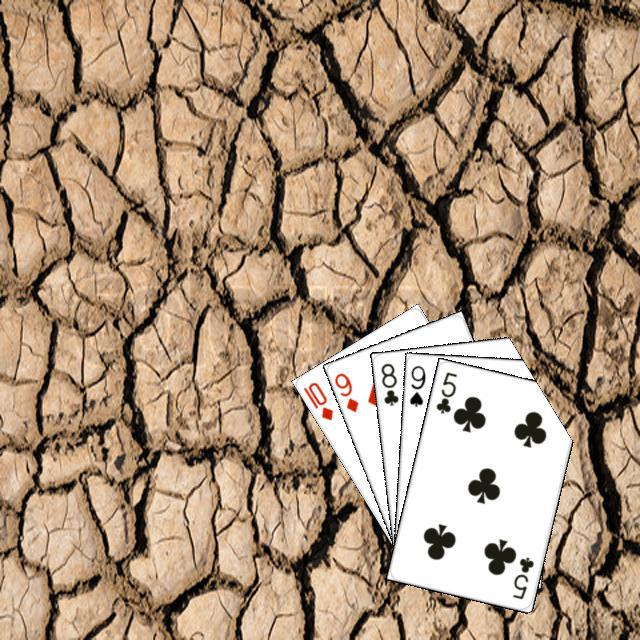10d: (298, 377, 335, 422)
5c: (508, 552, 536, 601), (431, 367, 459, 415)
8c: (376, 358, 400, 407)
9d: (330, 368, 360, 414)
9s: (405, 360, 427, 408)
